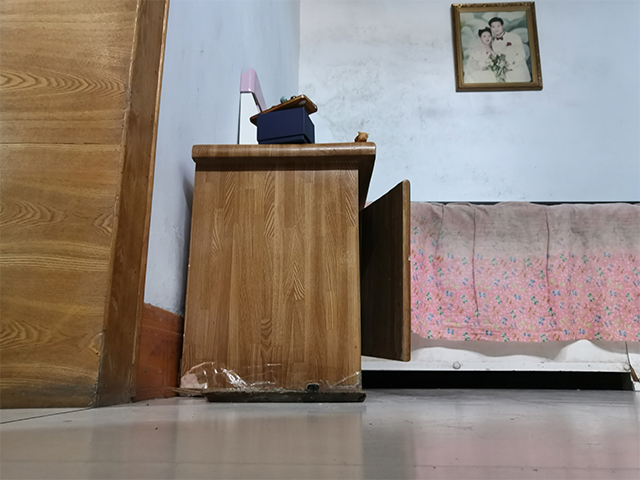bed: (360, 197, 640, 390)
cabinet: (172, 141, 414, 404)
